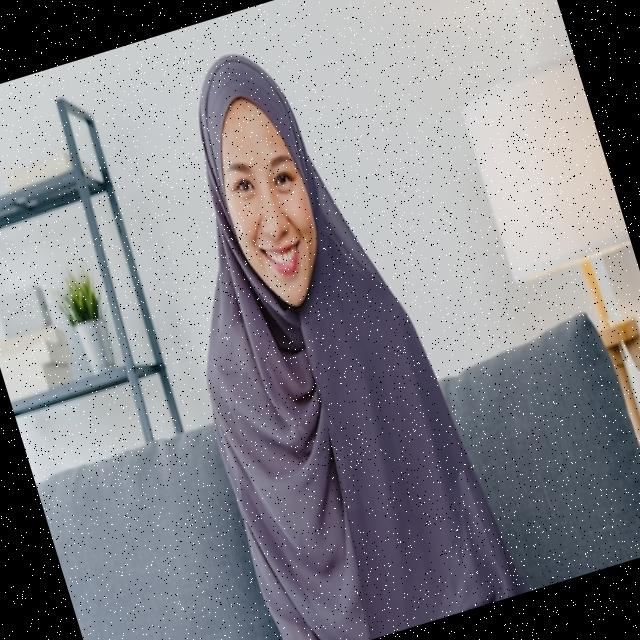Person: (108, 12, 532, 640)
